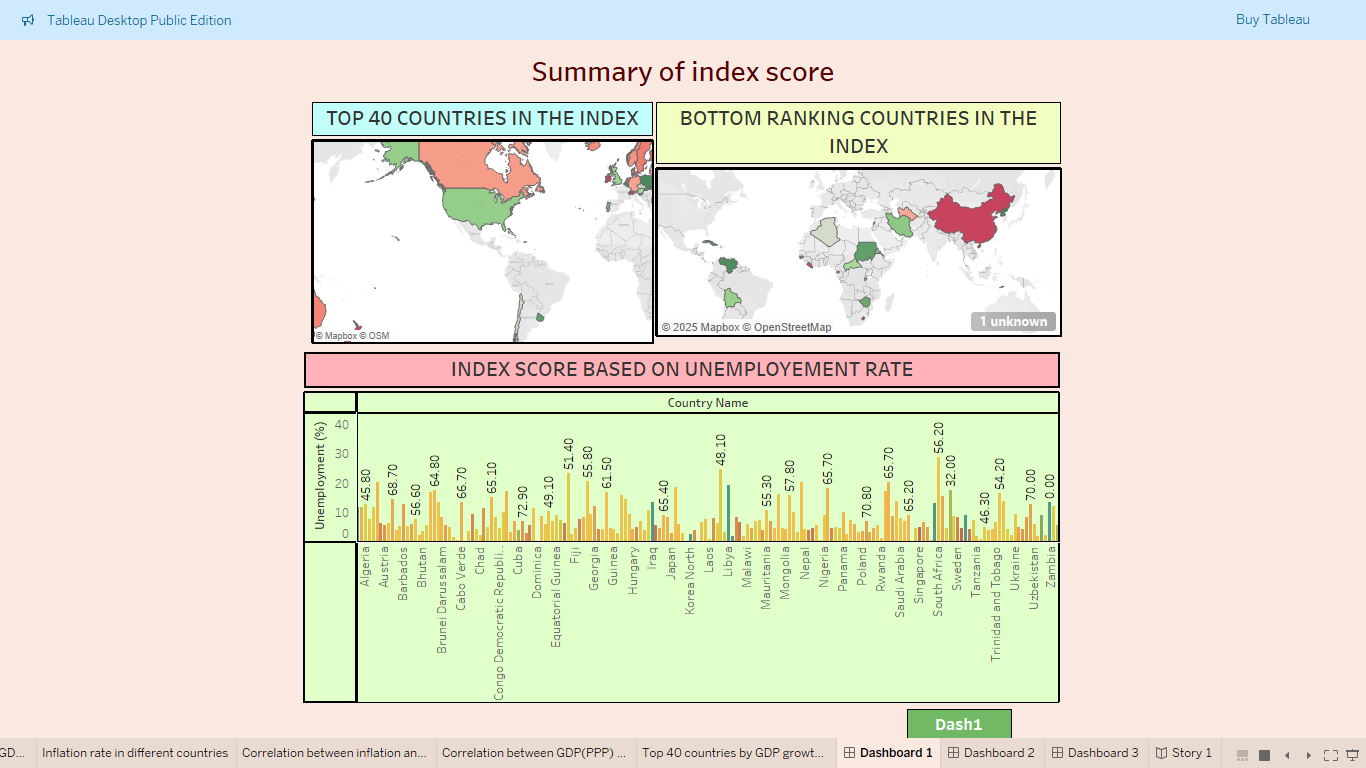

This screenshot's page, from the dashboard's own definition file:
{"tool":"tableau","page":{"name":"Dashboard 1","canvas":[1000,1000],"units":"permille","ordinal":0},"visuals":[{"type":"title","box":[10.7,14.3,978.7,73.2]},{"type":"worksheet","title":"Top 40 countries in the index","mark":"Automatic","box":[4,89.3,457.3,346.4]},{"type":"dashboard-object","box":[798.7,958.9,140,42.9]}]}

Visuals, with their boxes on the dashboard's canvas, which has no fixed pixel size, in thousandths of its width and height (x1, y1, x2, y2). These are canvas units, not pixel positions in the 1366x768 screenshot, which may show the page scaled, cropped or inside an application window:
title: [left=11, top=14, right=989, bottom=88]
"Top 40 countries in the index" worksheet: [left=4, top=89, right=461, bottom=436]
dashboard-object: [left=799, top=959, right=939, bottom=1002]
